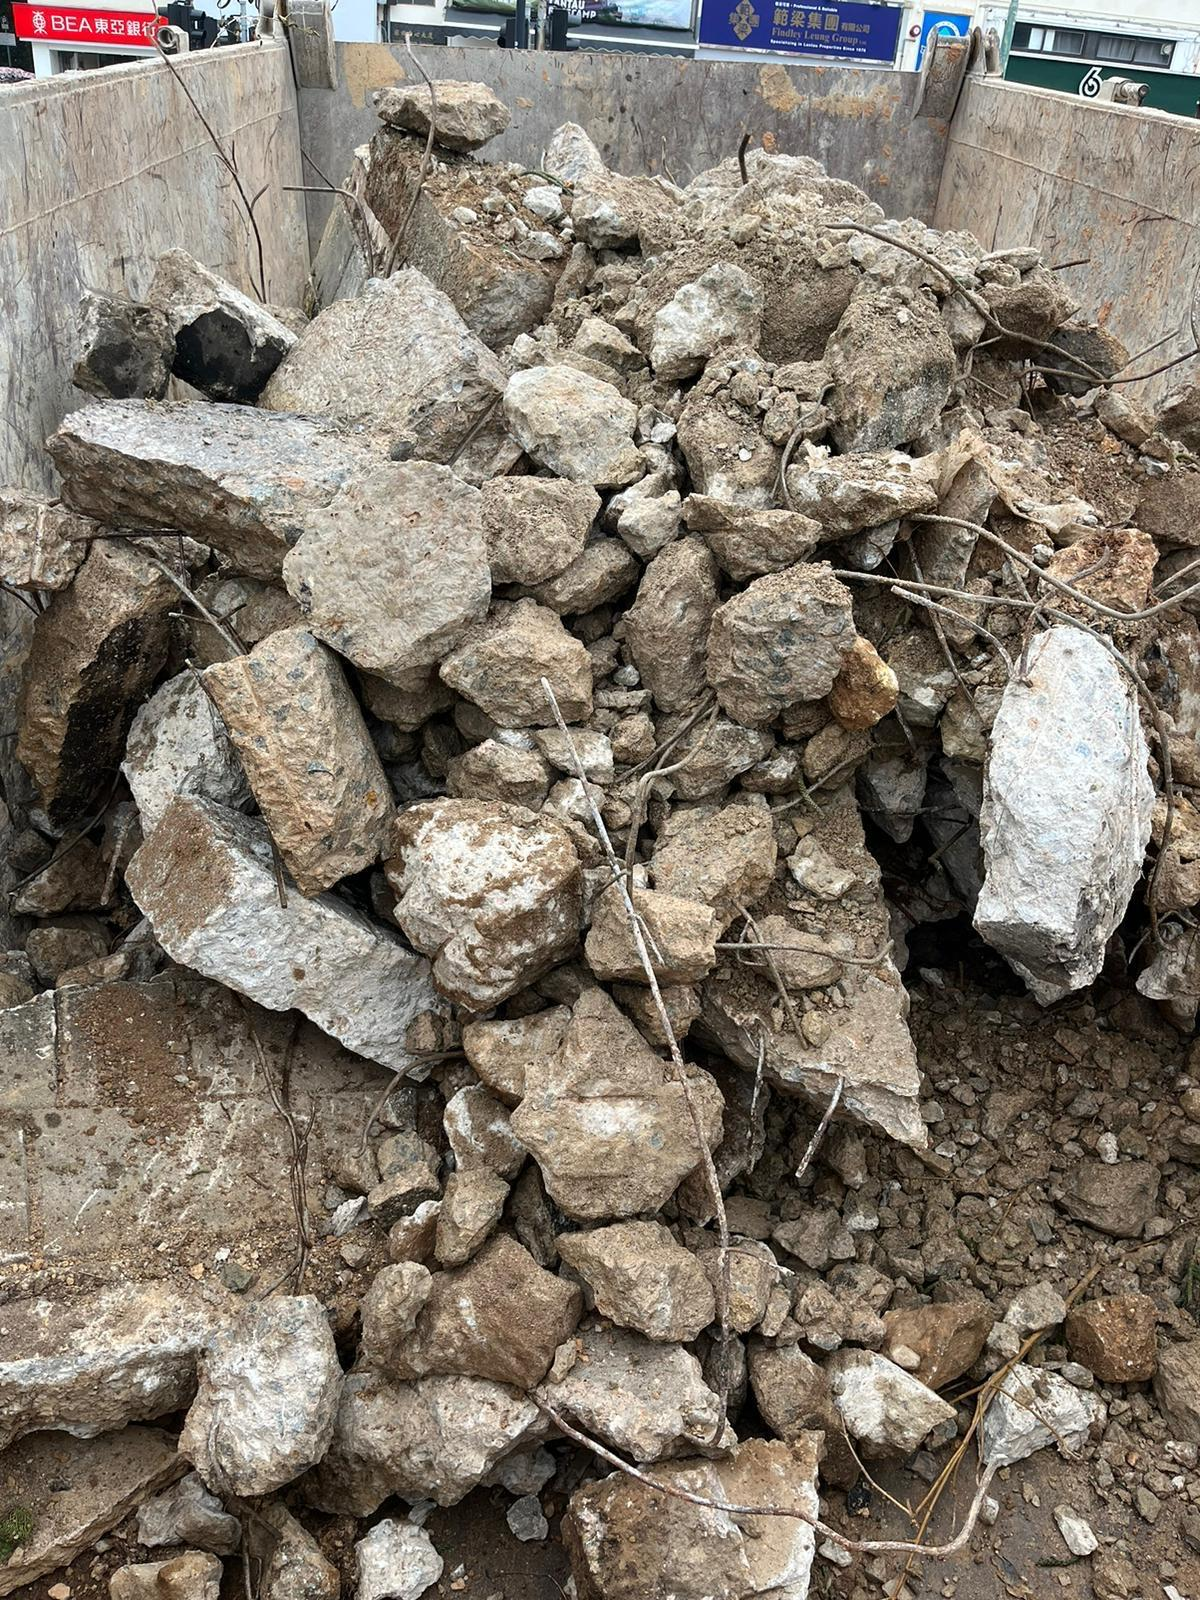dry: (23, 142, 1200, 1600)
